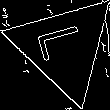L_E: (35, 25, 93, 69)
